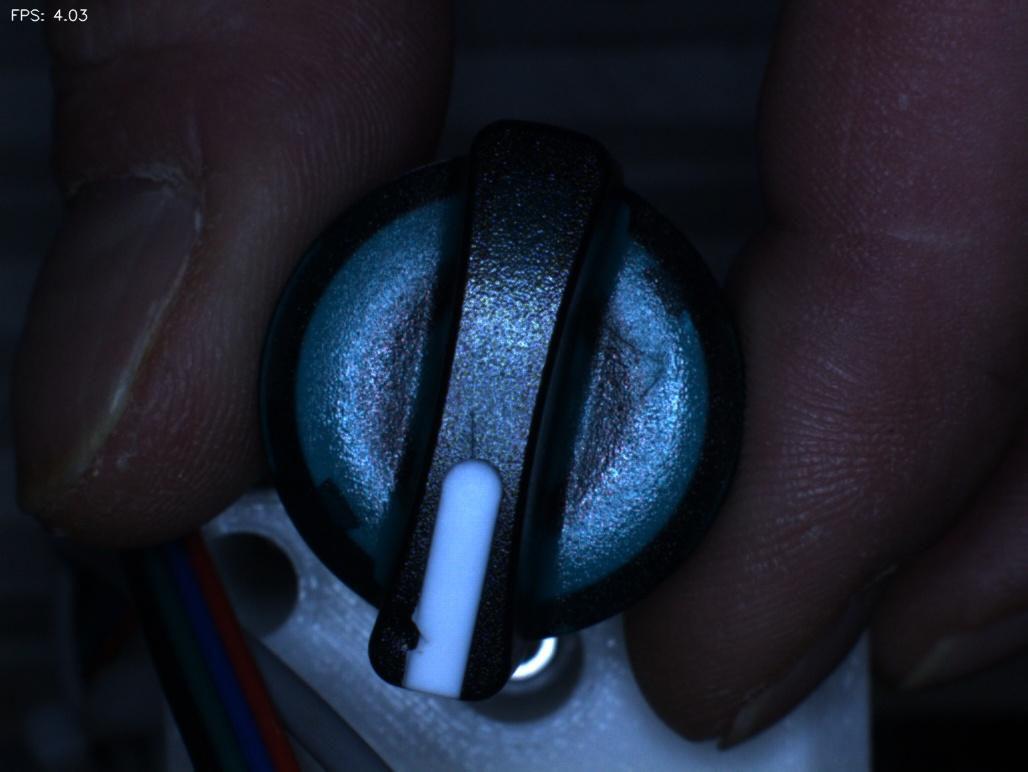Choc: (365, 589, 456, 678)
